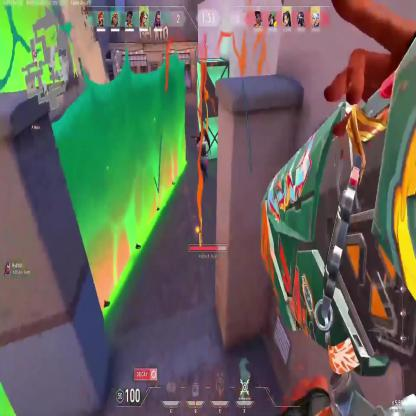enemy: (198, 129, 208, 185)
enemy_head: (200, 130, 204, 140)
